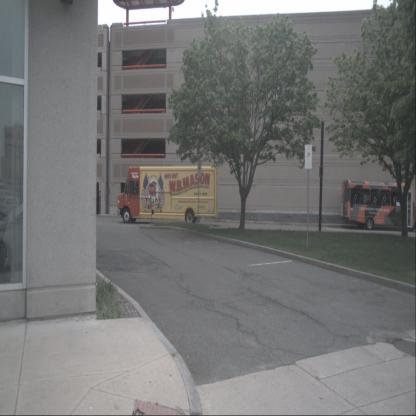vehicle-bus-rigid: (341, 180, 416, 231)
vehicle-car: (116, 166, 217, 225), (0, 201, 72, 274)
